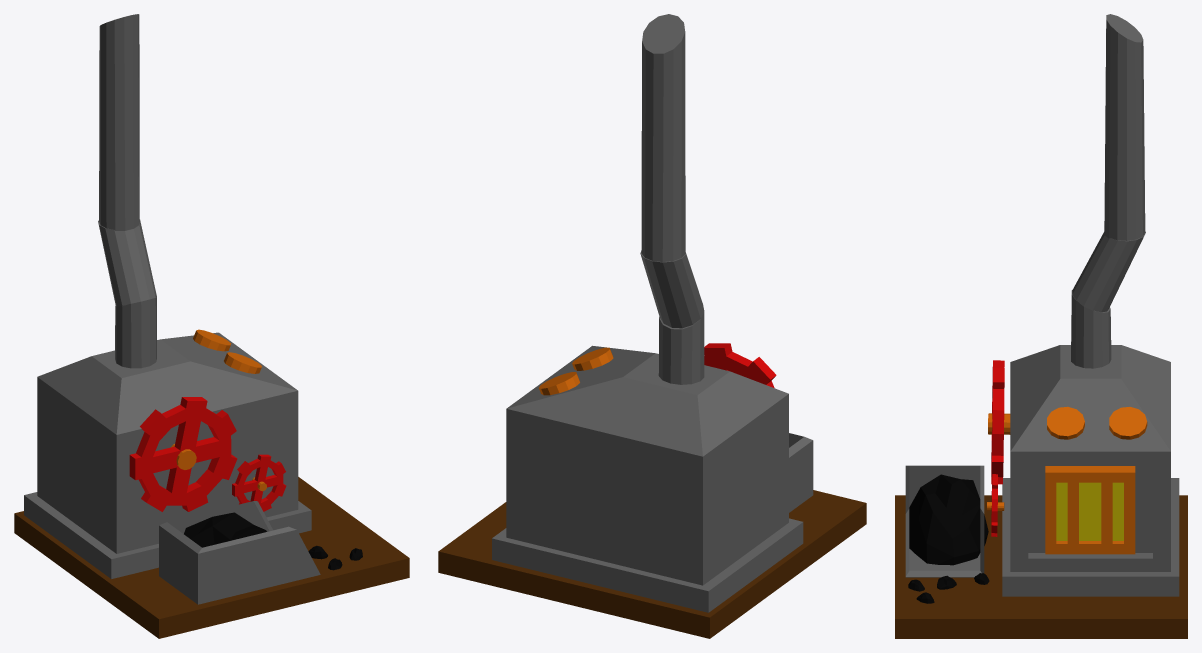
Rendered from furnace.fbx.
The picture shows the model from 3 angles, left to right: view 1: azimuth 30°, elevation 25°; view 2: azimuth 150°, elevation 25°; view 3: azimuth 270°, elevation 25°; orthographic projection. The views are drawn at different scales.
Visible parts, largest first — view 1: Cube.001, Cube, Cube.004, Cylinder.002, Cylinder.006, Cylinder.001, Cylinder, Cylinder.007, Sphere; view 2: Cube.001, Cube, Cylinder.002, Cylinder.001, Cylinder, Cube.004, Cylinder.006, Cylinder.004, Cylinder.003; view 3: Cube.001, Cube, Cylinder.002, Sphere, Cube.003, Cube.004, Cylinder.001, Cube.002, Cylinder, Cylinder.006, Cylinder.003, Cylinder.004 (+1 smaller).
Boxes of the visible parts, <box> form: Cube.001: <box>24,332,311,578</box>; Cube: <box>14,477,409,638</box>; Cube.004: <box>159,501,320,604</box>; Cylinder.002: <box>99,14,139,230</box>; Cylinder.006: <box>129,397,237,511</box>; Cylinder.001: <box>98,219,156,306</box>; Cylinder: <box>115,297,156,368</box>; Cylinder.007: <box>232,454,286,511</box>; Sphere: <box>184,512,266,547</box>; Cube.001: <box>492,345,803,612</box>; Cube: <box>438,490,866,638</box>; Cylinder.002: <box>641,14,685,261</box>; Cylinder.001: <box>640,250,704,328</box>; Cylinder: <box>658,312,704,384</box>; Cube.004: <box>789,433,813,512</box>; Cylinder.006: <box>704,343,776,387</box>; Cylinder.004: <box>572,347,613,370</box>; Cylinder.003: <box>539,372,579,395</box>; Cube.001: <box>1002,345,1179,596</box>; Cube: <box>895,495,1187,638</box>; Cylinder.002: <box>1104,14,1145,240</box>; Sphere: <box>909,474,988,565</box>; Cube.003: <box>1045,466,1135,554</box>; Cube.004: <box>905,465,984,577</box>; Cylinder.001: <box>1072,231,1145,312</box>; Cube.002: <box>1056,482,1123,540</box>; Cylinder: <box>1071,290,1111,368</box>; Cylinder.006: <box>991,360,1004,484</box>; Cylinder.003: <box>1109,407,1147,439</box>; Cylinder.004: <box>1047,406,1084,439</box>.
Bounding box in the file's own units: 700 × 1457 × 700.
